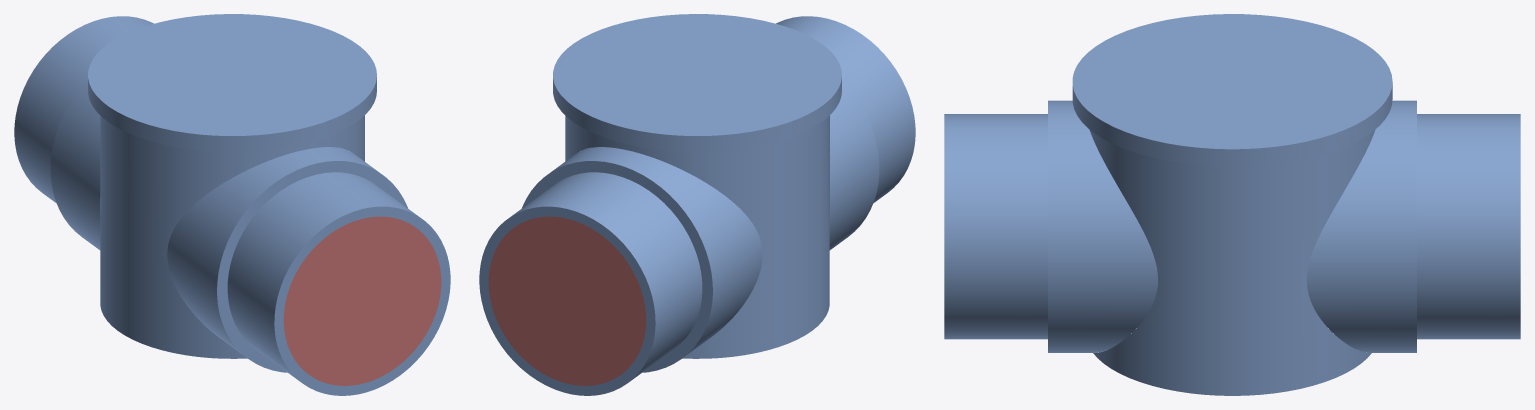
Rendered from step_48.glb.
The picture shows the model from 3 angles, left to right: view 1: azimuth 30°, elevation 25°; view 2: azimuth 150°, elevation 25°; view 3: azimuth 270°, elevation 25°; orthographic projection. The views are drawn at different scales.
Visible parts, largest first — view 1: part__4" needle valve body NV-101, removed__4" needle valve body NV-101; view 2: part__4" needle valve body NV-101, removed__4" needle valve body NV-101; view 3: part__4" needle valve body NV-101.
Part boxes in pixels (left/top/right/bottom): part__4" needle valve body NV-101: left=14, top=14, right=450, bottom=395; removed__4" needle valve body NV-101: left=283, top=216, right=441, bottom=385; part__4" needle valve body NV-101: left=479, top=14, right=915, bottom=395; removed__4" needle valve body NV-101: left=488, top=216, right=646, bottom=385; part__4" needle valve body NV-101: left=944, top=14, right=1520, bottom=395.
Bounding box in the file's own units: 162 × 145 × 292.
